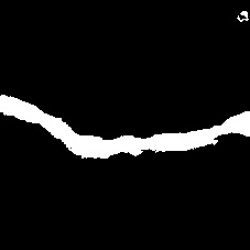crack: (2, 93, 247, 161)
pinhole: (236, 9, 249, 24)
